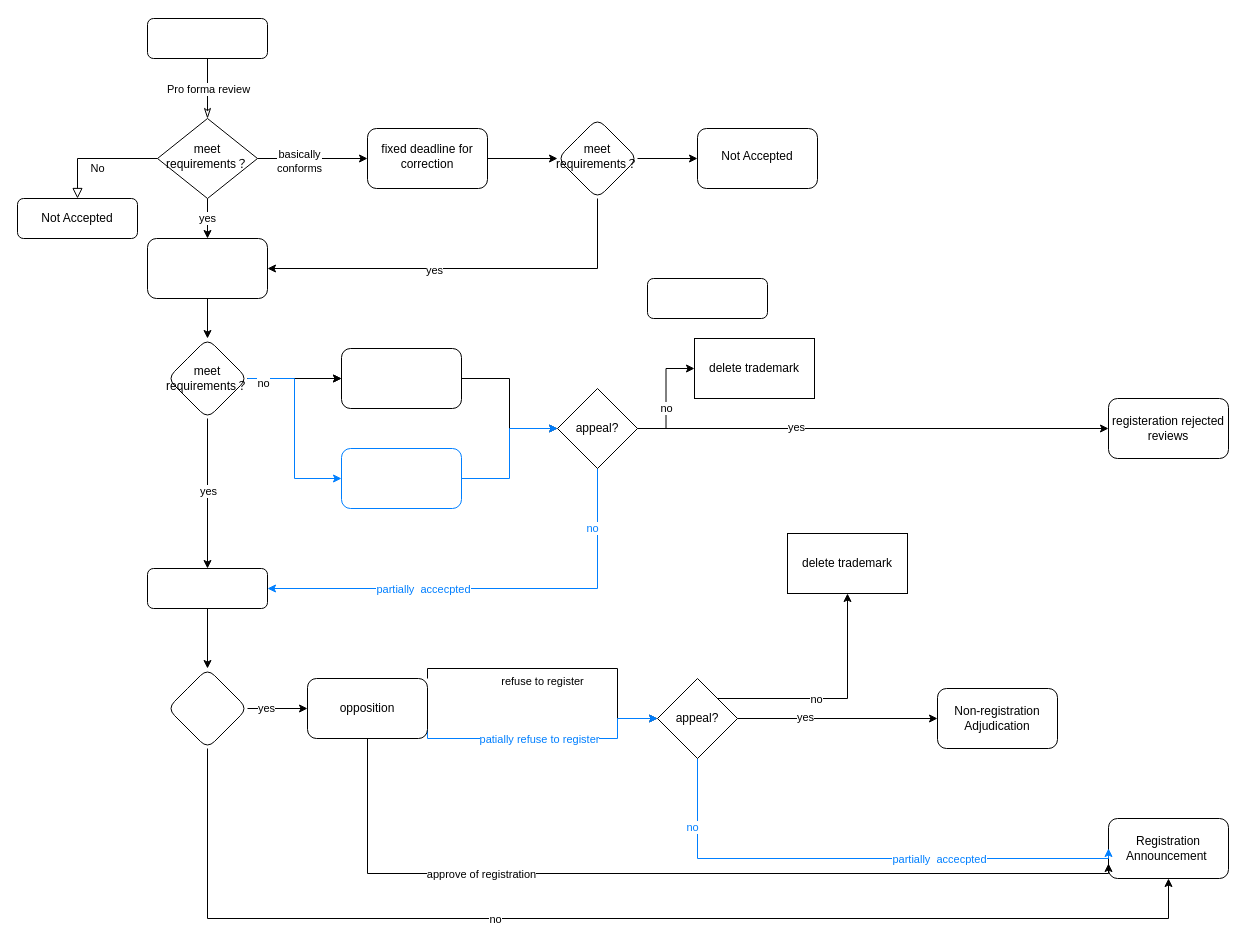
Image size: 1246x944. Some labels were removed from this diagram. The box of each missing label's shape, as (x1, y1, x2, y2) in pixels:
Filing an application with the Chiese Trademark Office: (146, 18, 268, 58)
is there an oppsition?: (166, 668, 248, 748)
Partrially Reject Registration: (340, 448, 462, 508)
Preliminary Examination Announcement: (146, 568, 268, 608)
Reject Registration: (340, 348, 462, 408)
Replace Bulb: (646, 278, 768, 318)
Substantive reviews: (146, 238, 268, 298)
